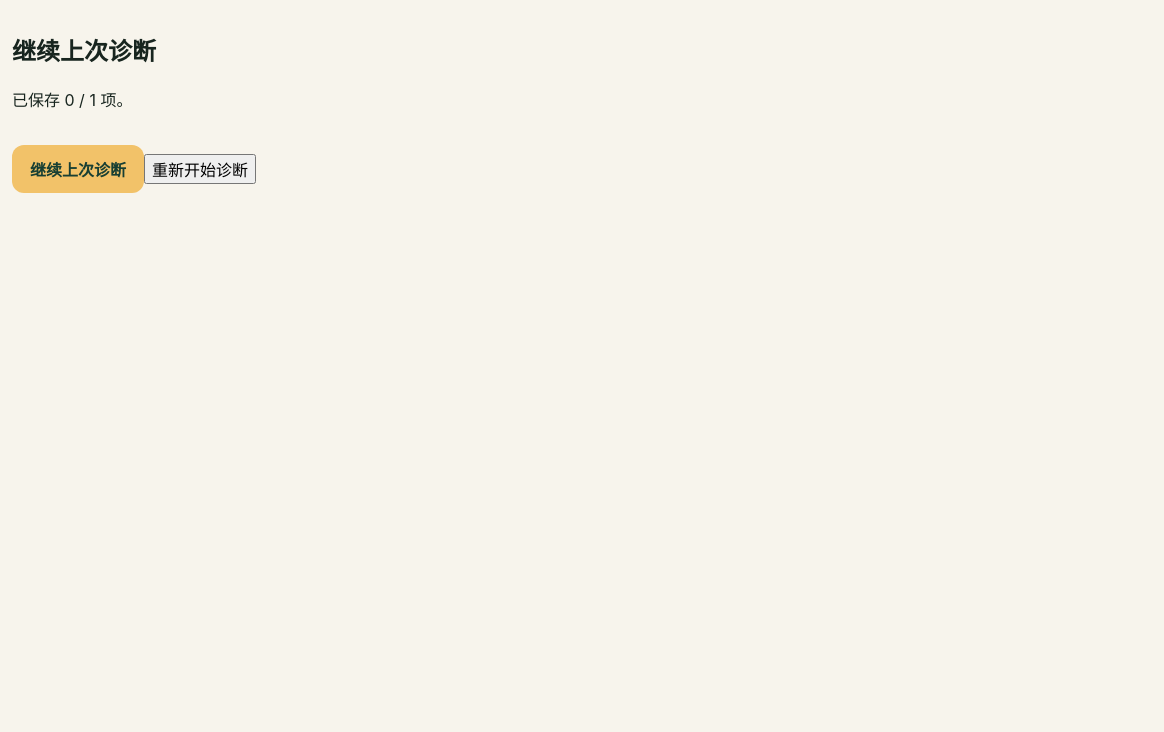
Scenario: foundation diagnostic › offers to continue or restart a valid unfinished diagnostic
Expected: the heading "继续上次诊断" is shown, 12,37 -> 156,66
Expected: the button "重新开始诊断" is shown, 144,154 -> 256,184
Click the button "继续上次诊断" at (78, 169), box 12,145 -> 144,193
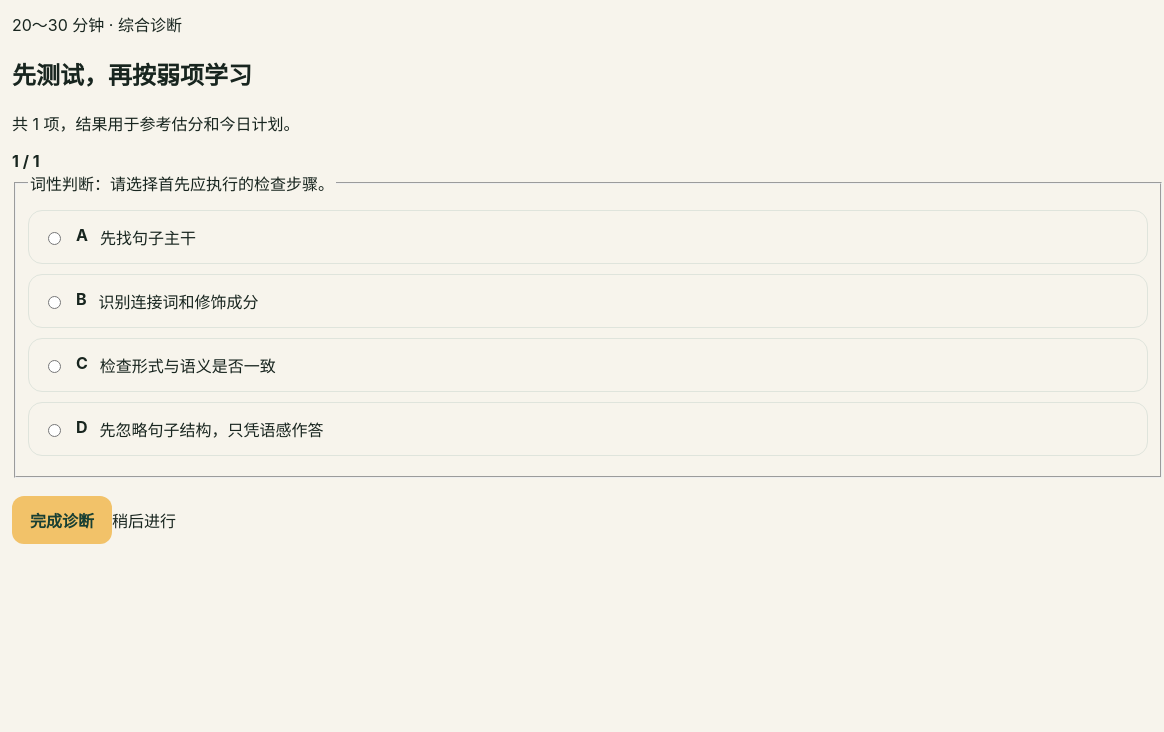
Expected: the heading "先测试，再按弱项学习" is shown, 12,61 -> 252,90
